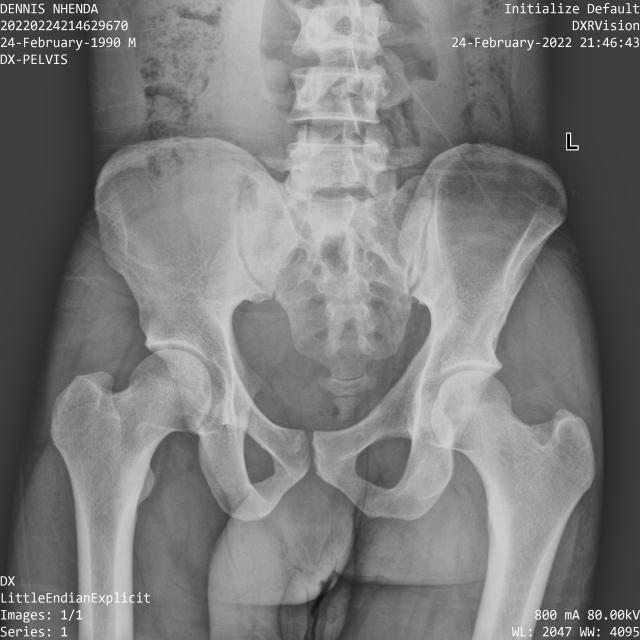normal-left: (431, 370, 596, 640)
normal-right: (50, 349, 212, 591)
